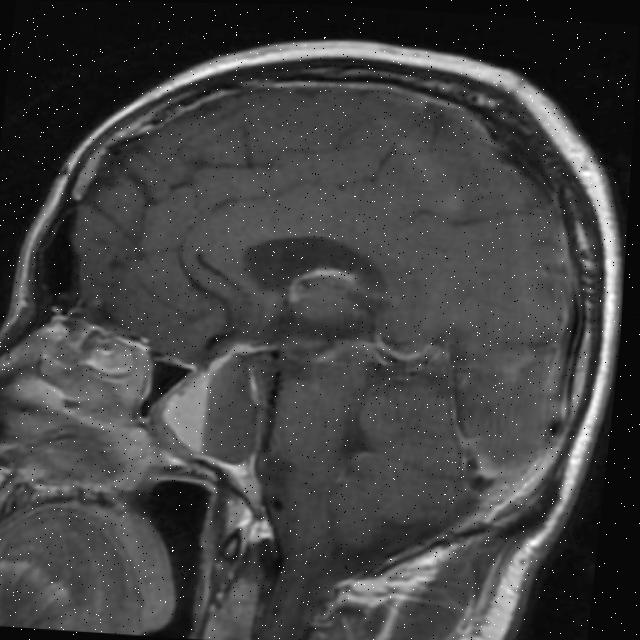Pituitary: (156, 351, 267, 467)
